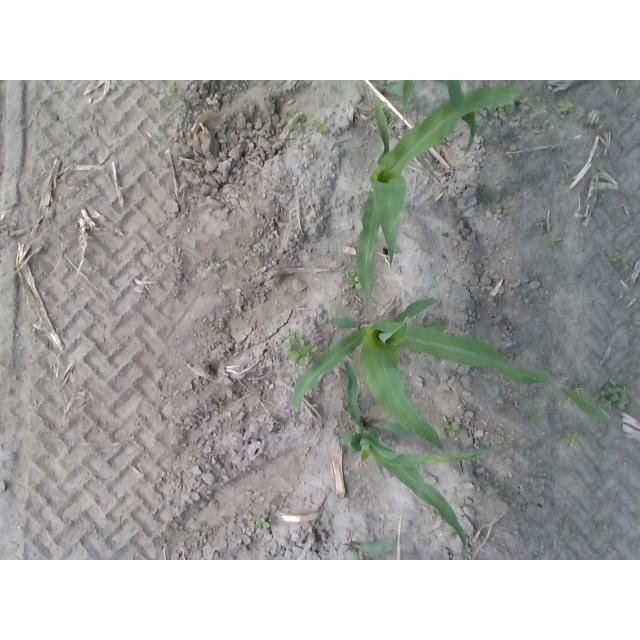Maize: (290, 297, 615, 451), (358, 85, 542, 307), (343, 358, 467, 558), (383, 81, 475, 157), (348, 537, 392, 560)
Weeds: (295, 338, 317, 367), (282, 343, 299, 361), (601, 388, 620, 404), (311, 118, 330, 133), (441, 423, 459, 438), (251, 514, 269, 528), (620, 387, 630, 409), (560, 96, 573, 112), (564, 432, 577, 446), (489, 485, 500, 500), (348, 271, 358, 287), (493, 202, 504, 215), (224, 133, 236, 144), (528, 412, 540, 422), (434, 319, 446, 329), (457, 401, 467, 412), (539, 117, 549, 127), (288, 329, 297, 340), (167, 89, 177, 98), (599, 526, 609, 535), (253, 250, 262, 259), (612, 253, 620, 263), (551, 238, 561, 246), (575, 384, 584, 392), (214, 261, 222, 269), (622, 254, 629, 262), (619, 81, 630, 86), (296, 122, 302, 130), (179, 99, 186, 105)
